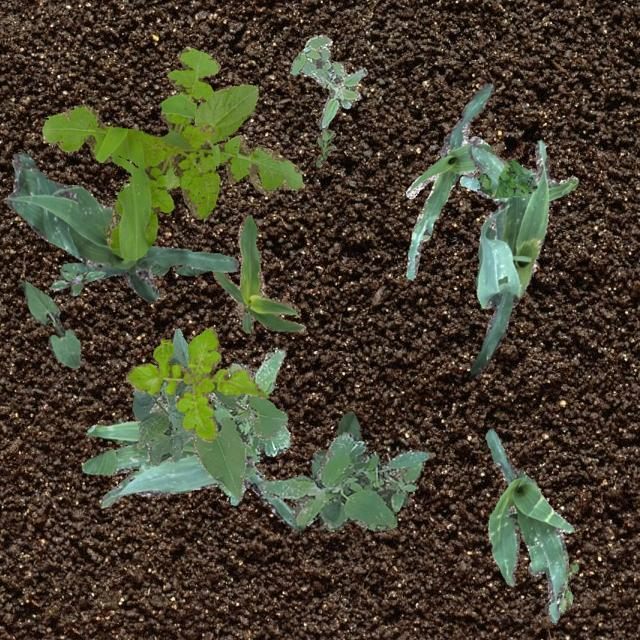crop: (4, 152, 238, 302), (458, 140, 578, 378), (132, 328, 286, 500), (80, 418, 304, 534), (484, 428, 574, 622), (404, 83, 492, 280), (212, 215, 304, 332), (164, 84, 256, 188), (21, 278, 80, 368), (310, 410, 360, 478), (148, 260, 206, 274)
weed: (40, 46, 304, 260), (260, 432, 428, 530), (125, 326, 268, 440), (210, 346, 290, 504), (288, 34, 366, 128), (476, 158, 536, 198), (49, 268, 104, 294), (558, 562, 578, 612), (314, 128, 334, 166)
